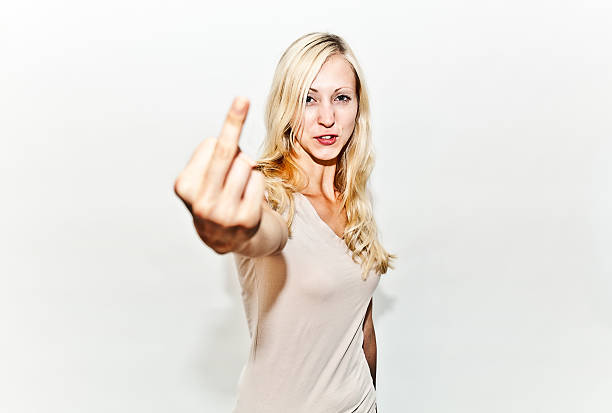insulting_gesture: (171, 90, 266, 238)
